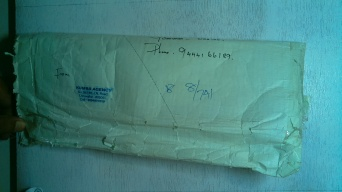l: (15, 21, 311, 177)
